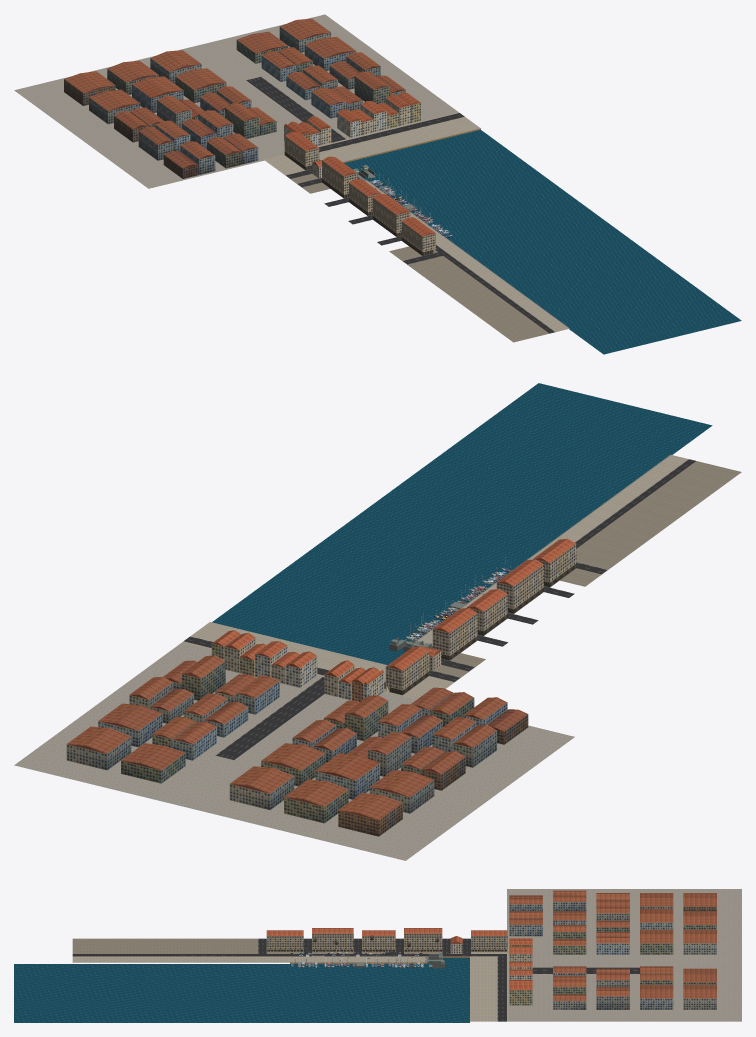
File: lugar-marsella.glb
3 renders of one model, top to bottom at view 1: azimuth 30°, elevation 25°; view 2: azimuth 150°, elevation 25°; view 3: azimuth 270°, elevation 25°, orthographic. The views are drawn at different scales.
Visible parts, largest first — view 1: planoE, luzG-cerca, vert-fondo, luzE, vert-cerca; view 2: planoE, vert-fondo, luzG-cerca, luzE, vert-cerca; view 3: planoE, luzG-cerca, vert-fondo, luzE, suelo-muelle, vert-cerca.
Boxes of the visible parts, x1,y1,x2,y2 form: planoE: (344, 130, 741, 354); luzG-cerca: (14, 14, 569, 342); vert-fondo: (64, 18, 405, 178); luzE: (284, 92, 480, 255); vert-cerca: (368, 173, 452, 237); planoE: (212, 383, 712, 664); vert-fondo: (66, 655, 528, 836); luzG-cerca: (14, 454, 741, 860); luzE: (211, 538, 576, 701); vert-cerca: (405, 557, 511, 640); planoE: (14, 935, 469, 1022); luzG-cerca: (72, 889, 741, 1021); vert-fondo: (509, 890, 716, 1009); luzE: (266, 928, 532, 1005); suelo-muelle: (290, 951, 427, 962); vert-cerca: (290, 949, 448, 967).
Bounding box in the file's own units: 375 × 30.15 × 870.
58 materials, 17 textured.
